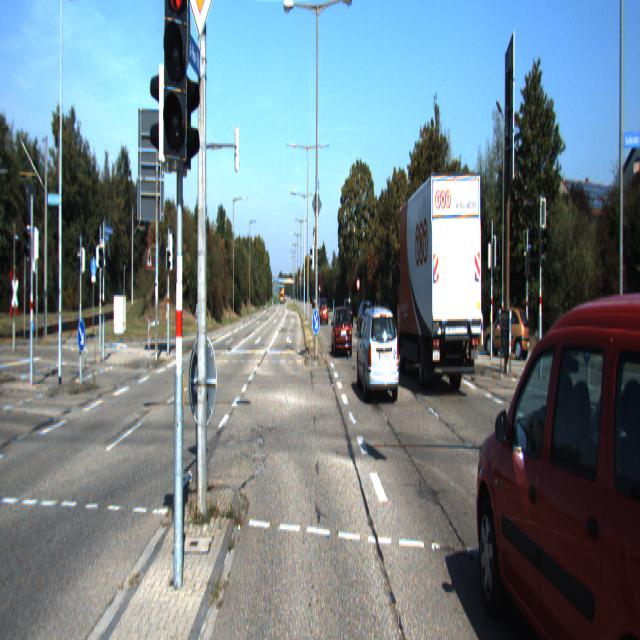Car: (474, 276, 640, 638), (394, 167, 484, 400), (356, 304, 401, 408), (484, 303, 531, 359), (332, 306, 352, 358)
